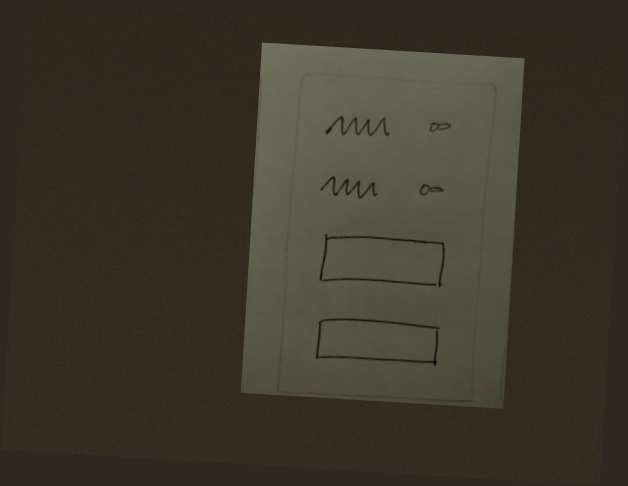switch: (410, 177, 460, 203), (423, 115, 463, 140)
text: (317, 106, 399, 146), (316, 169, 386, 207)
text_input: (314, 225, 455, 297), (307, 313, 448, 375)
